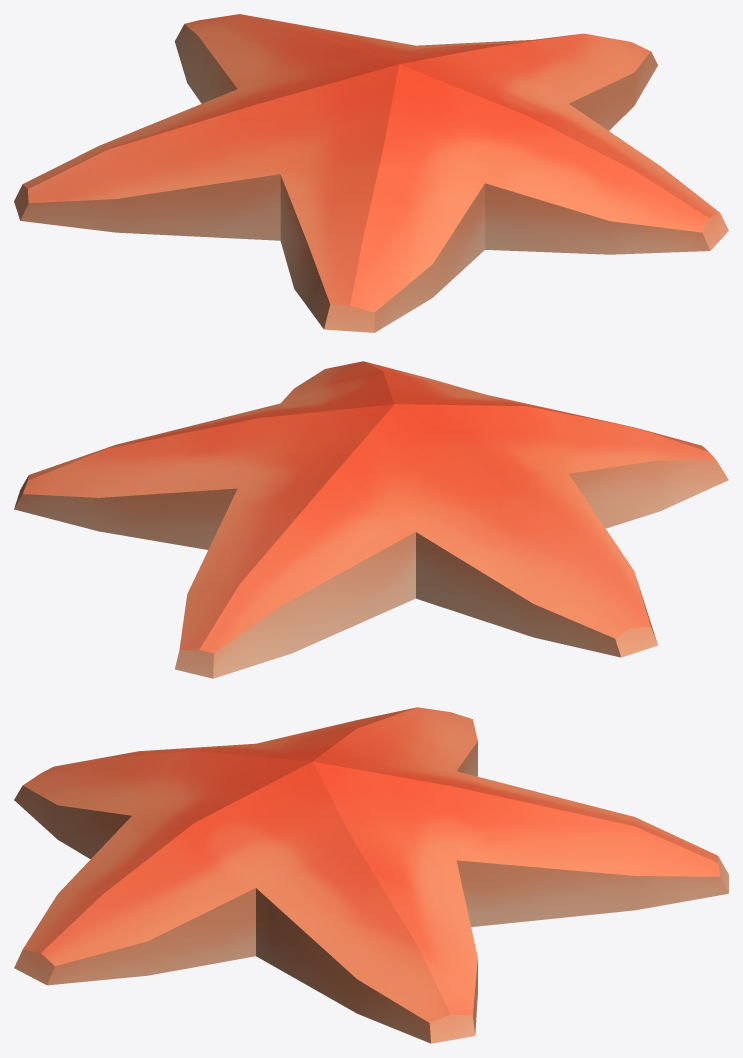
Rendered from inside_starfish.fbx.
3 views of the same model, one above another, from view 1: azimuth 30°, elevation 25°; view 2: azimuth 150°, elevation 25°; view 3: azimuth 270°, elevation 25° (orthographic). The views are drawn at different scales.
Visible parts, largest first — view 1: Cylinder.001; view 2: Cylinder.001; view 3: Cylinder.001.
Part boxes in pixels (box(x1,y1,x2,y2)): Cylinder.001: box(14, 14, 728, 332); Cylinder.001: box(14, 361, 728, 678); Cylinder.001: box(14, 707, 728, 1043).
Bounding box in the file's own units: 33.87 × 6.12 × 32.06.
